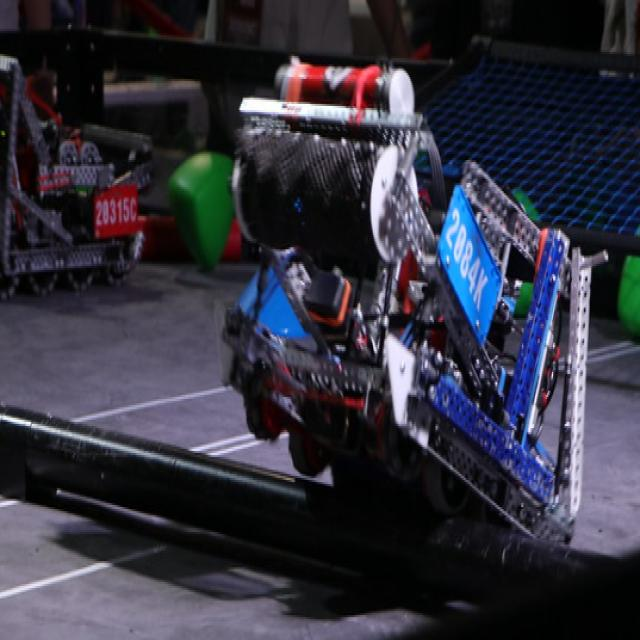License-Plates: (440, 188, 501, 340), (96, 184, 135, 240)
